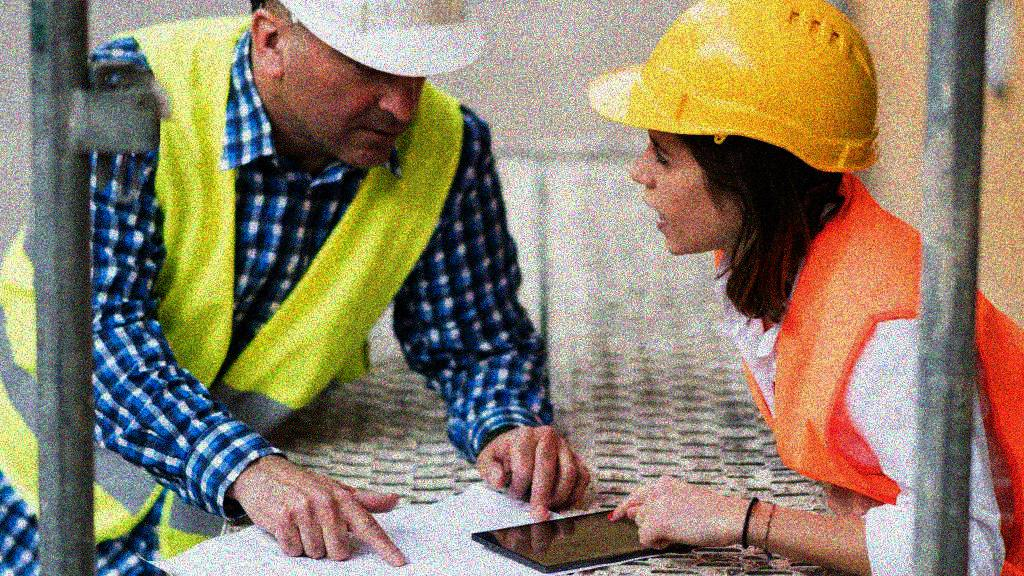helmet: (585, 3, 882, 260), (244, 1, 487, 168)
